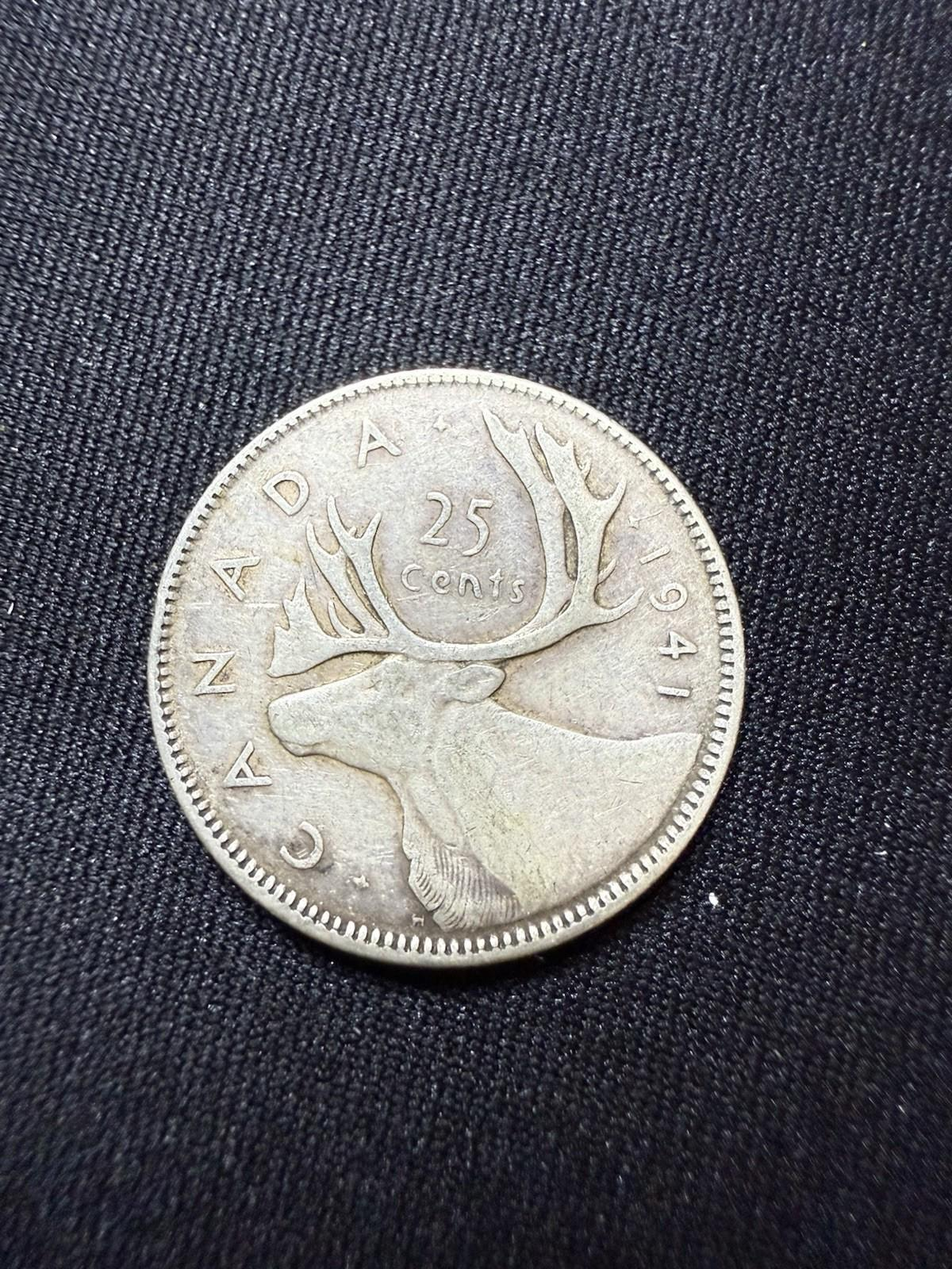coin: (149, 370, 743, 965)
